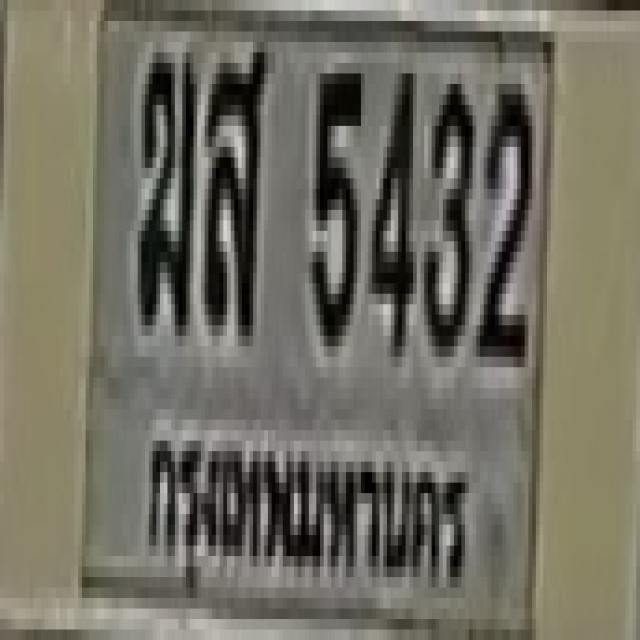2: (476, 73, 528, 357)
3: (420, 74, 472, 346)
4: (368, 63, 413, 346)
5: (309, 63, 361, 336)
A06: (136, 47, 195, 320)
A40: (201, 42, 264, 325)
BKK: (141, 402, 475, 607)
